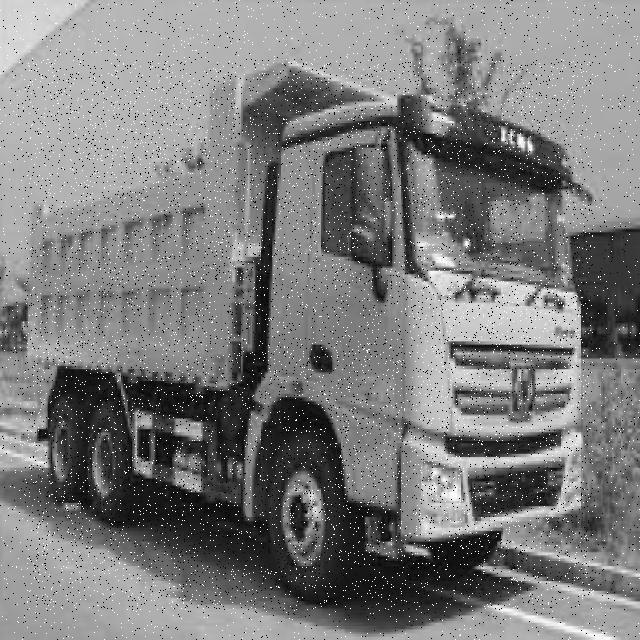Box Truck: (25, 59, 593, 610)
